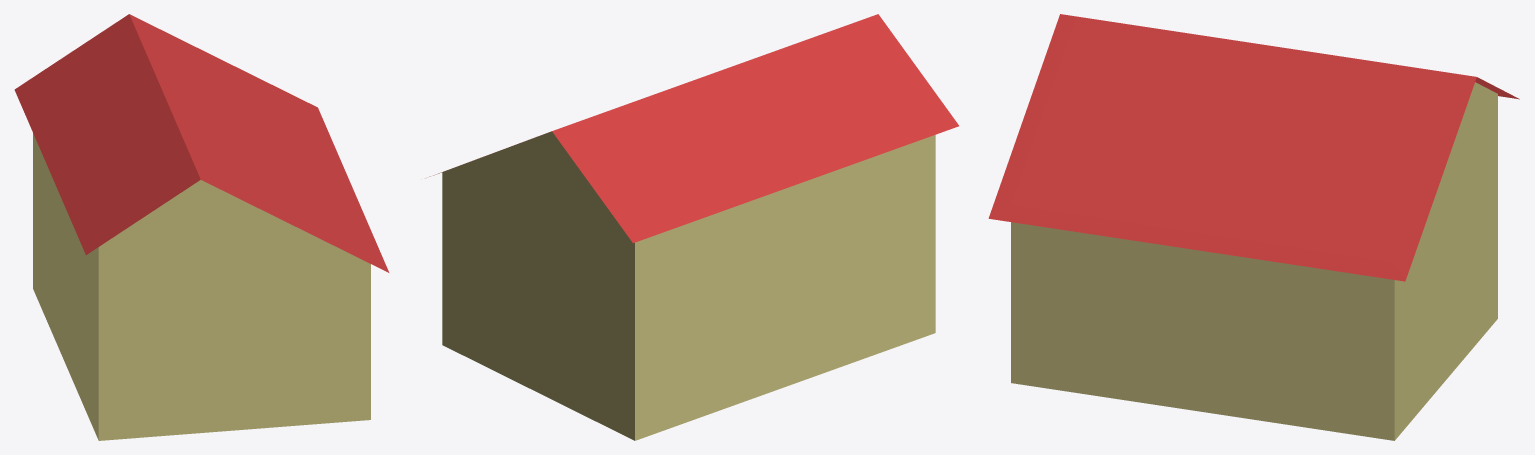
3 renders of one model, left to right at view 1: azimuth 30°, elevation 25°; view 2: azimuth 150°, elevation 25°; view 3: azimuth 270°, elevation 25°, orthographic. The views are drawn at different scales.
Bounding box in the file's own units: 13.39 × 15.11 × 9.05.
